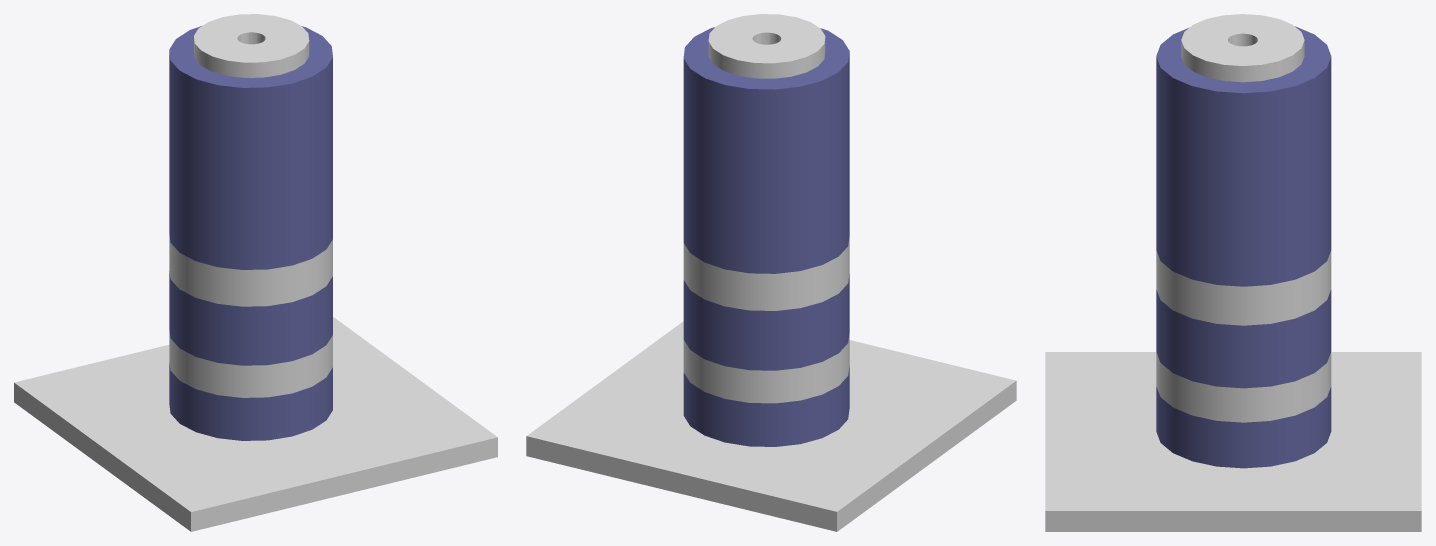
Rendered from firework_b.fbx.
The picture shows the model from 3 angles, left to right: view 1: azimuth 30°, elevation 25°; view 2: azimuth 150°, elevation 25°; view 3: azimuth 270°, elevation 25°; orthographic projection. The views are drawn at different scales.
Parts seen in each view (by area): view 1: stick_L1, pasted__base, pasted__stick_m; view 2: stick_L1, pasted__base, pasted__stick_m; view 3: stick_L1, pasted__base, pasted__stick_m.
Boxes of the visible parts, <box> form: stick_L1: <box>169,25,332,440</box>; pasted__base: <box>14,317,497,531</box>; pasted__stick_m: <box>194,14,309,77</box>; stick_L1: <box>683,27,849,446</box>; pasted__base: <box>526,321,1016,531</box>; pasted__stick_m: <box>708,14,825,78</box>; stick_L1: <box>1156,26,1331,468</box>; pasted__base: <box>1045,352,1421,531</box>; pasted__stick_m: <box>1181,14,1304,82</box>.
Bounding box in the file's own units: 1.93 × 2.33 × 1.93.
